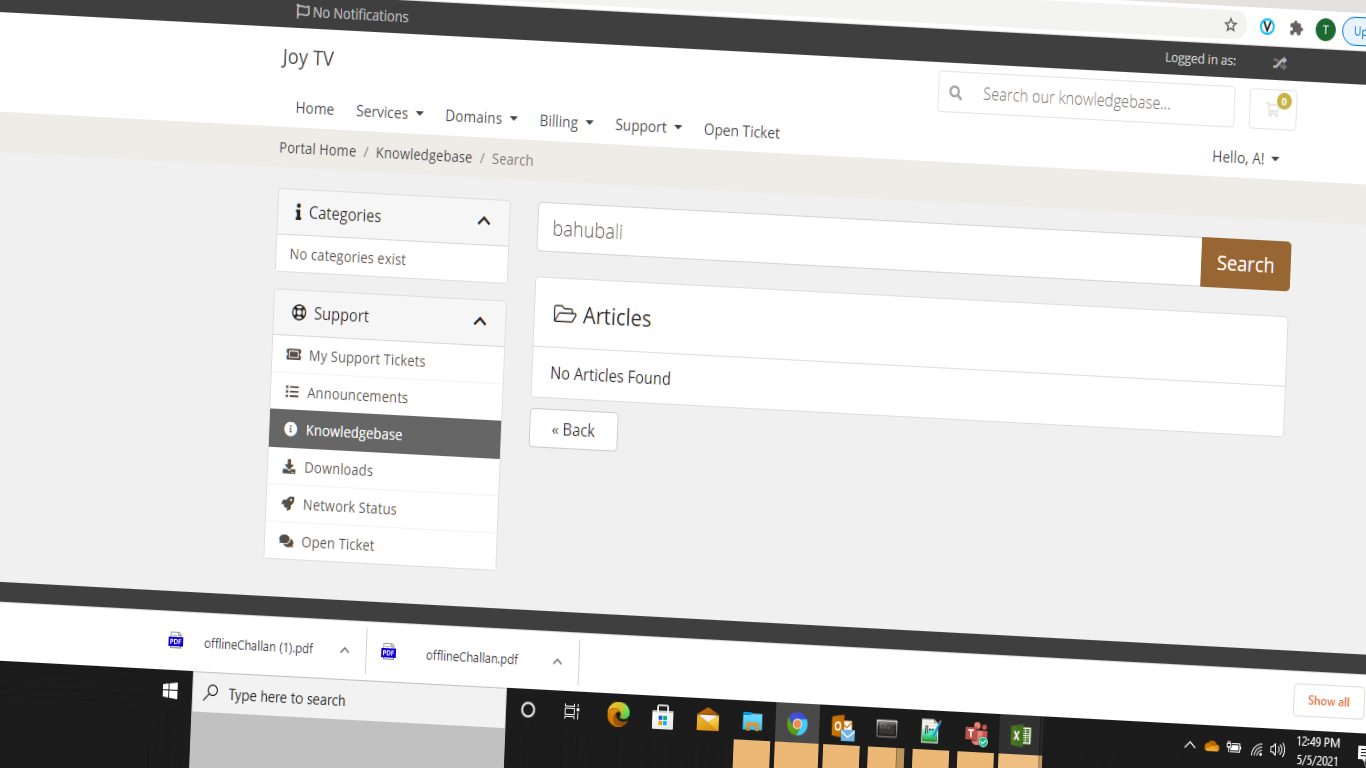backbutton: (526, 405, 615, 451)
noresultsfound: (535, 348, 1282, 414)
profileicon: (1207, 144, 1285, 168)
searchicon: (941, 71, 977, 109)
searchtextbox: (923, 67, 1237, 125)
